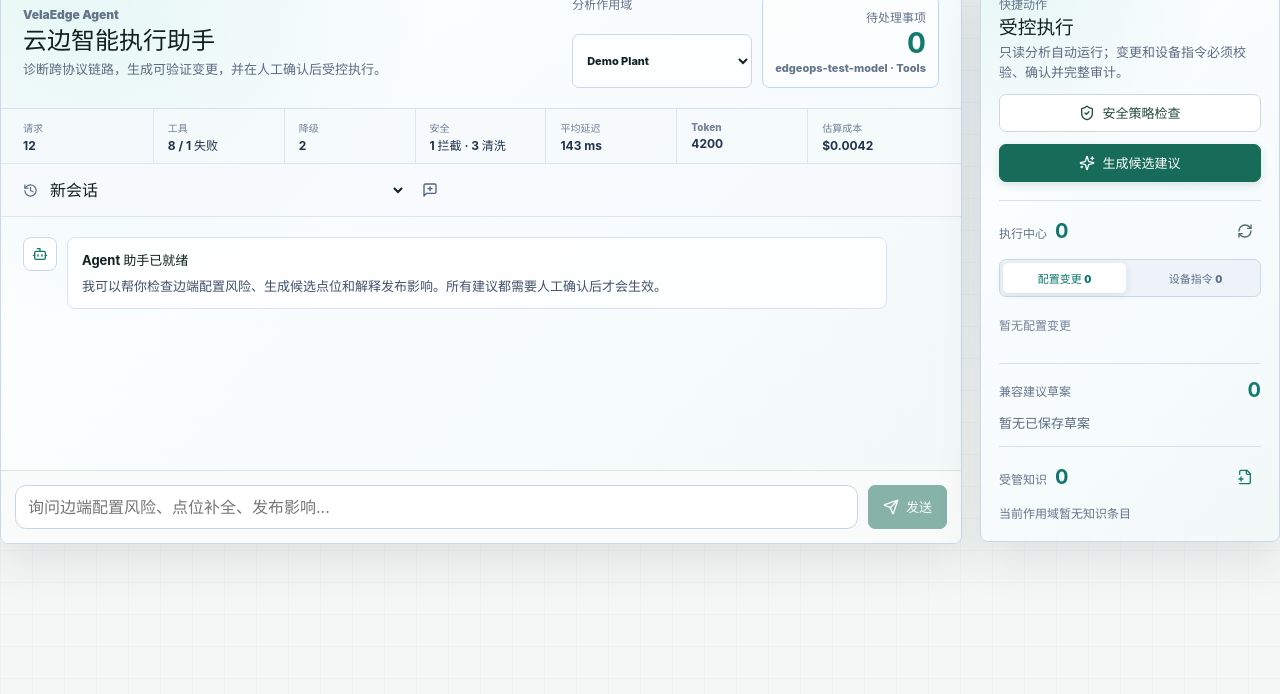
AgentAssistantPage › runs agent actions through handlers and renders returned suggestions
This screenshot has width=1280, height=694.
Expected: the heading "云边智能执行助手" is shown, [23,26,215,55]
Expected: the text "Agent 助手已就绪" is shown, [82,252,188,268]
Click the button "安全策略检查": (1130, 114) [999,94,1261,132]
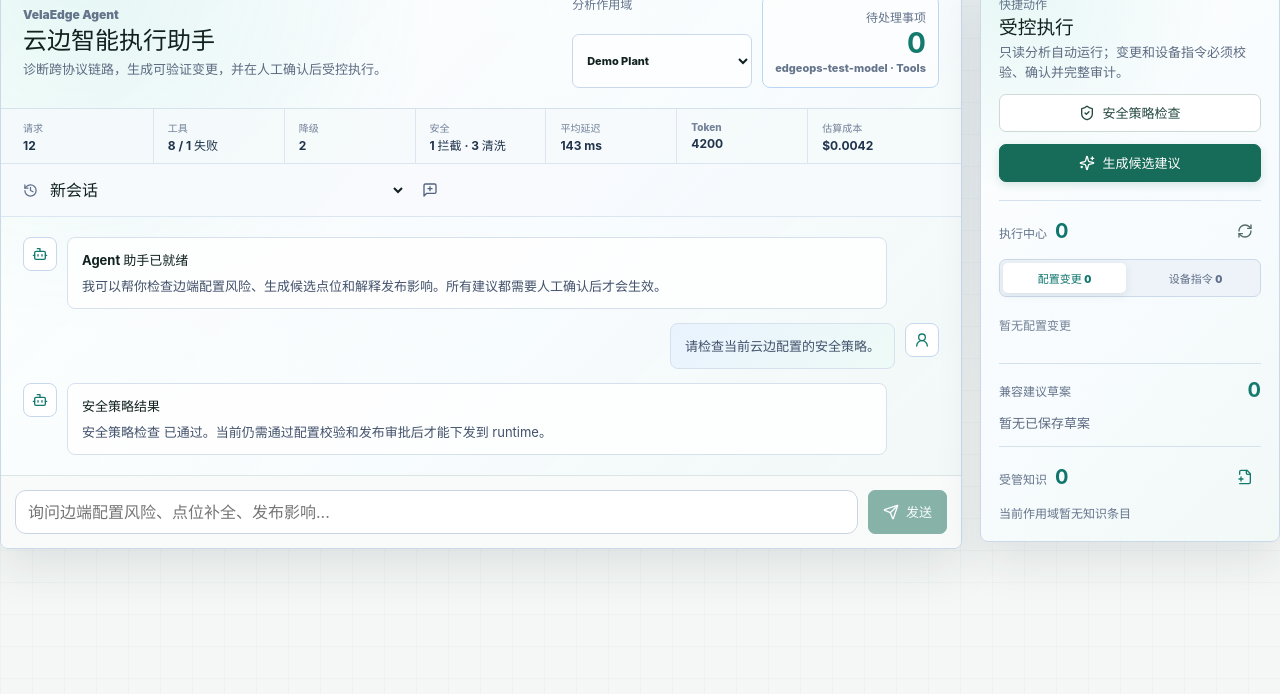
Result: the text "安全策略结果" is shown at [82,398,160,414]
Result: the text "安全策略检查 已通过。当前仍需通过配置校验和发布审批后才能下发到 runtime。" is shown at [82,424,552,440]
Click the button "生成候选建议": (1130, 164) [999,144,1261,182]
(page scrolled)
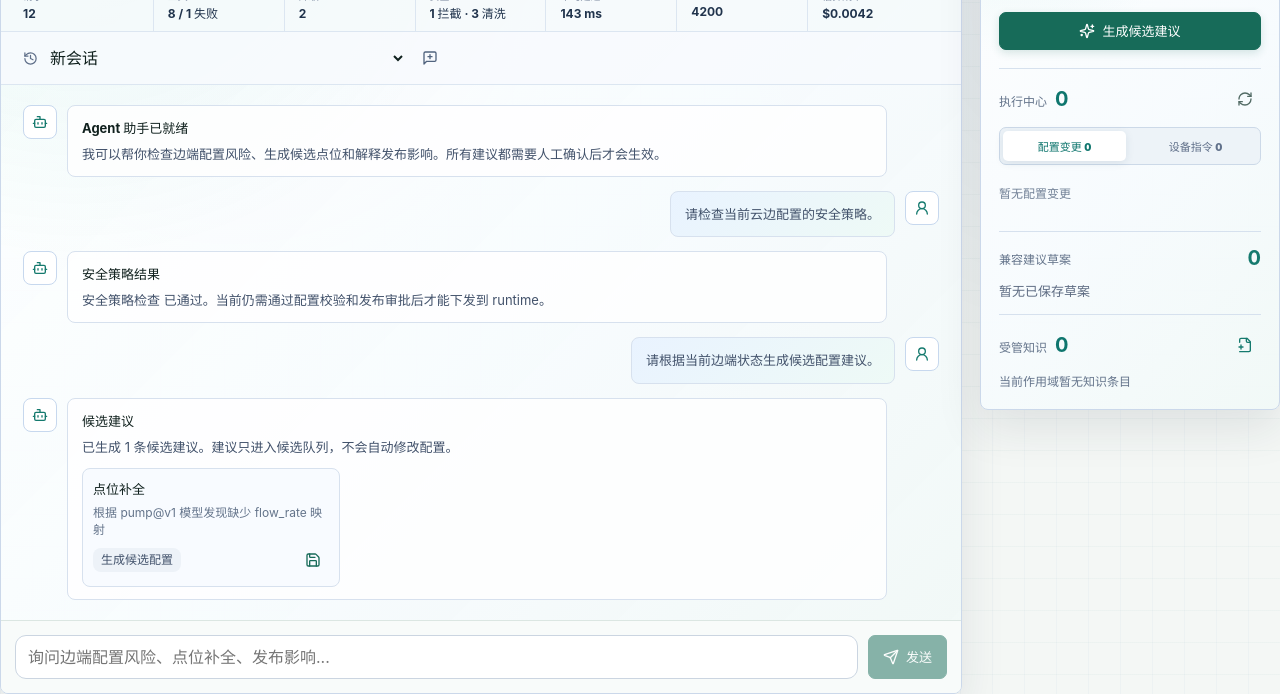
Result: the text "候选建议" is shown at [82,413,134,429]
Result: the text "已生成 1 条候选建议。建议只进入候选队列，不会自动修改配置。" is shown at [82,439,459,455]
Result: the text "点位补全" is shown at [93,481,145,497]
In the field named "输入 Agent 问题": (436, 658) [15,636,858,680], type "为什么 edge-dev 需要先校验再发布？"
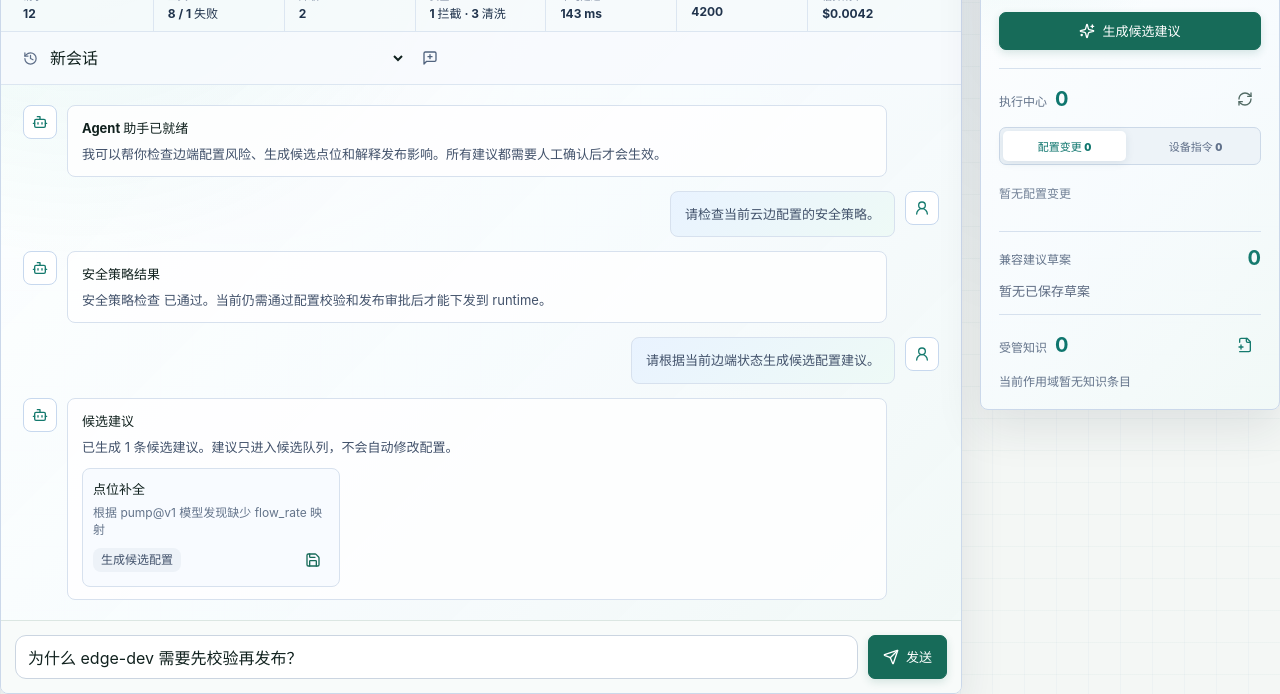
Click the button "发送": (908, 658) [868,636,947,680]
(page scrolled)
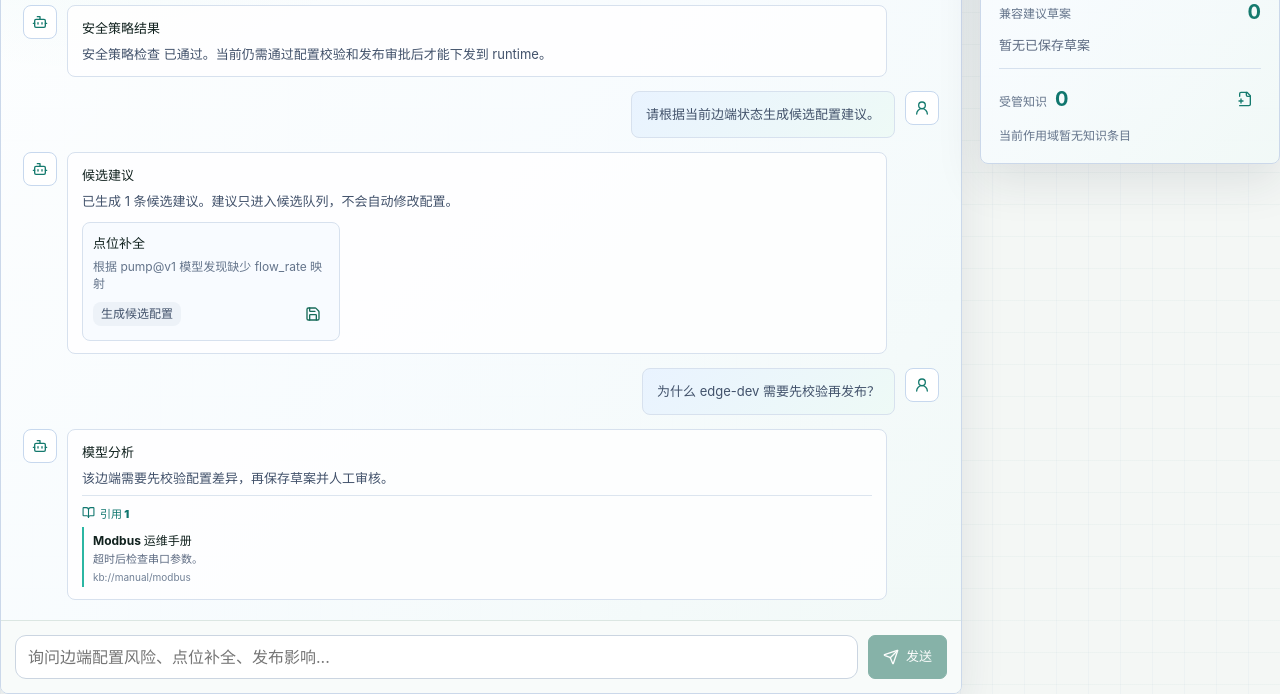
Result: the text "为什么 edge-dev 需要先校验再发布？" is shown at [657,382,880,402]
Result: the text "模型分析" is shown at [82,444,134,460]
Result: the text "该边端需要先校验配置差异，再保存草案并人工审核。" is shown at [82,470,394,486]
